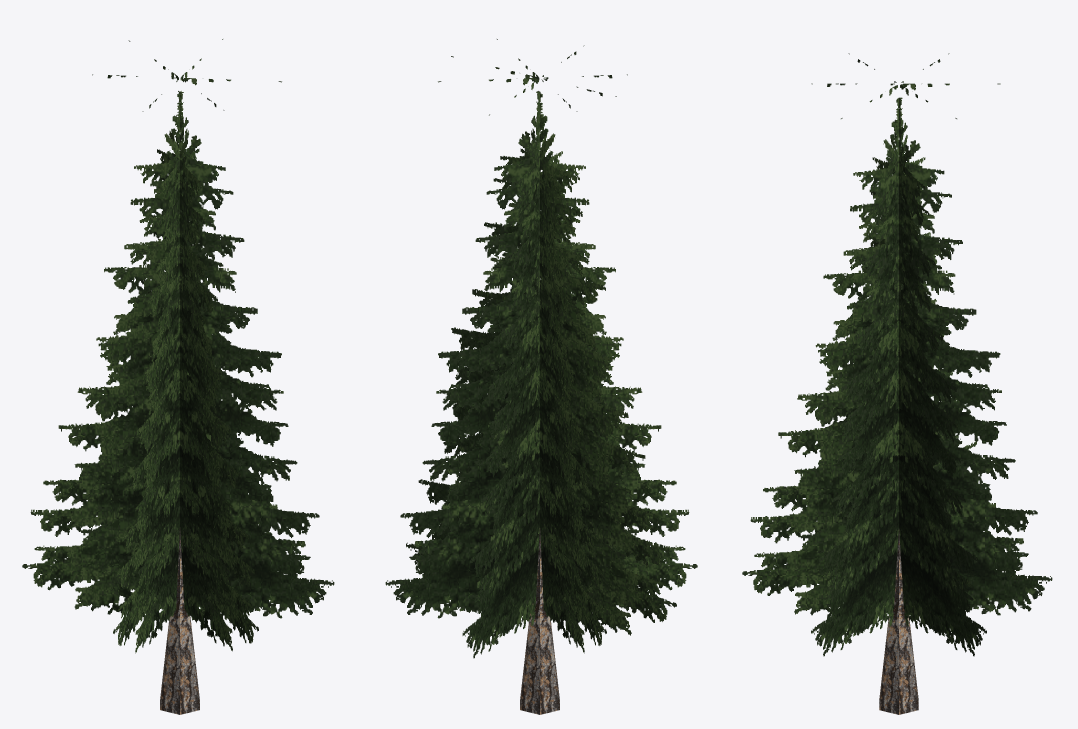
File: tree.obj
The picture shows the model from 3 angles, left to right: view 1: azimuth 30°, elevation 25°; view 2: azimuth 150°, elevation 25°; view 3: azimuth 270°, elevation 25°; orthographic projection.
Visible parts, largest first — view 1: leaf, cone; view 2: leaf, cone; view 3: leaf, cone.
Part boxes in pixels (bbox=[...]): leaf: bbox=[22, 39, 334, 653]; cone: bbox=[160, 527, 199, 714]; leaf: bbox=[385, 39, 697, 658]; cone: bbox=[520, 527, 559, 714]; leaf: bbox=[742, 53, 1052, 656]; cone: bbox=[879, 529, 918, 714].
Bounding box in the file's own units: 3.12 × 6.5 × 3.12.
Materials: 2 (2 with a texture image).
